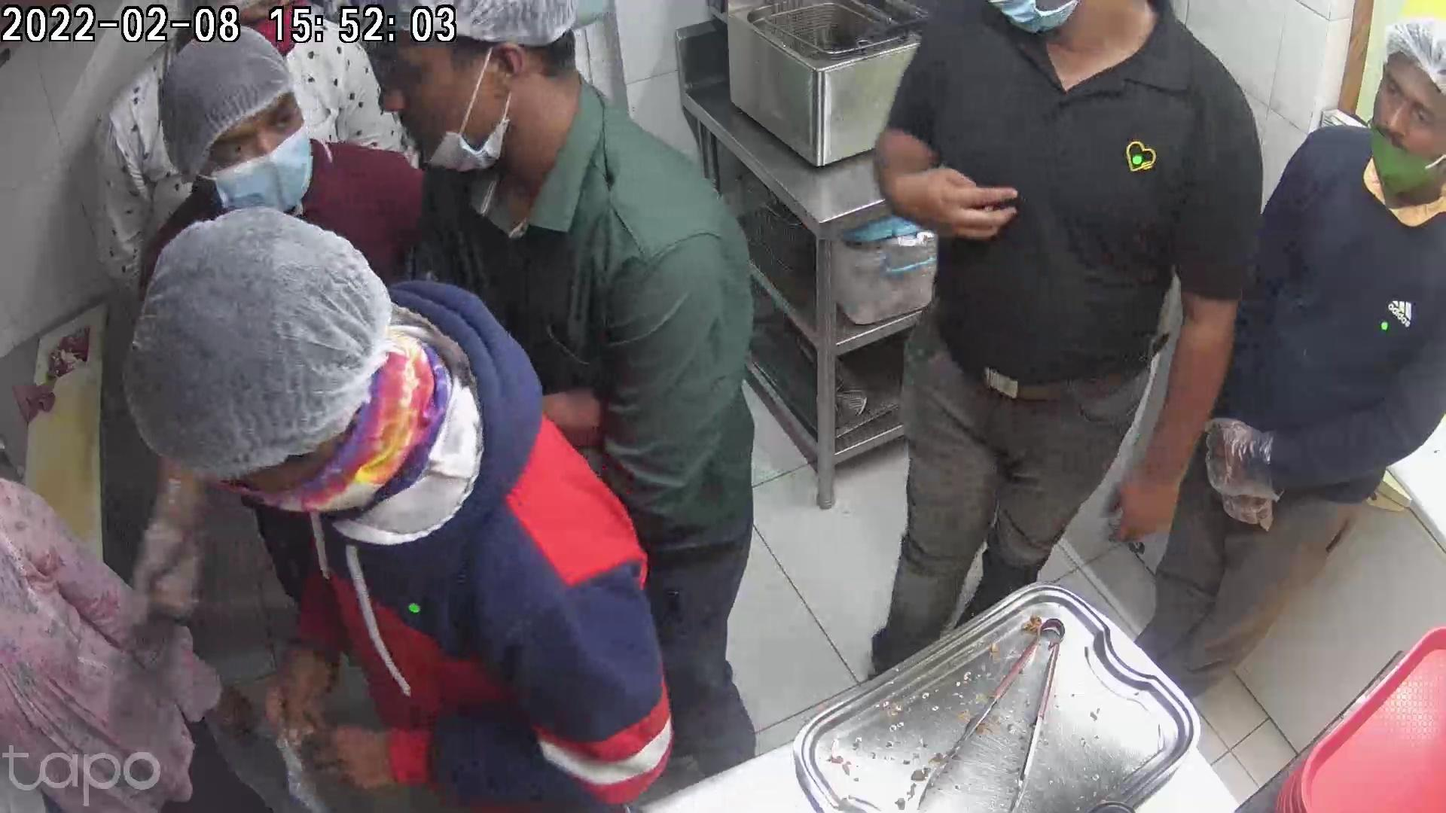no_gloves: (892, 172, 1015, 233)
